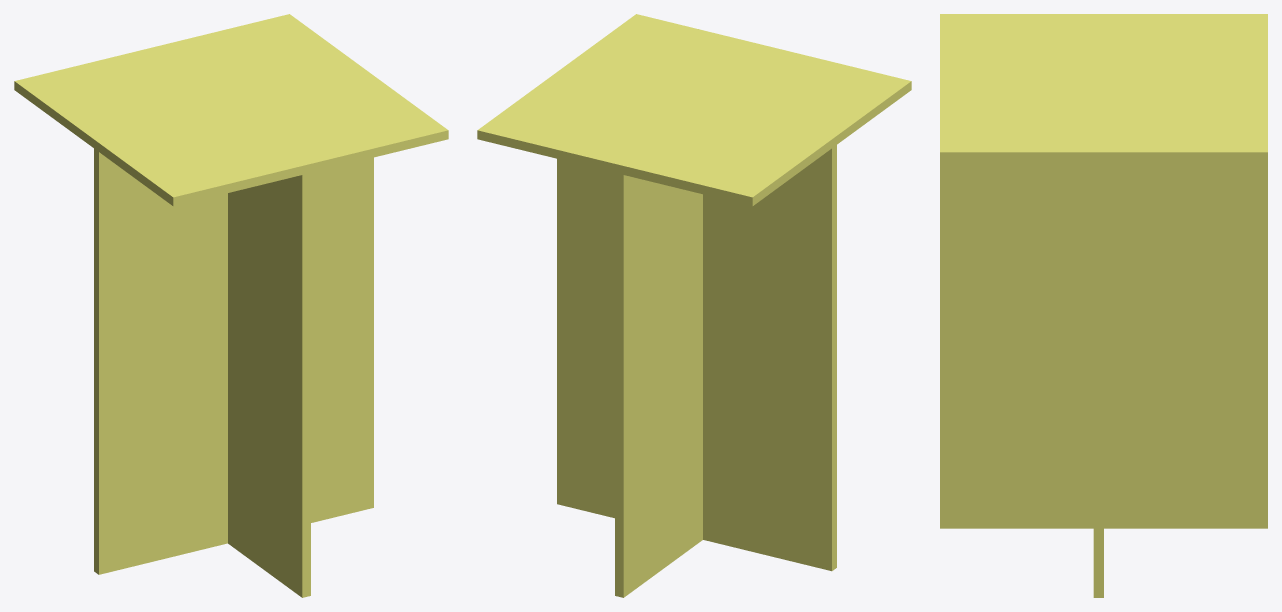
Rendered from 淡黄光.obj.
3 views of the same model, side by side, from view 1: azimuth 30°, elevation 25°; view 2: azimuth 150°, elevation 25°; view 3: azimuth 270°, elevation 25° (orthographic). The views are drawn at different scales.
Visible parts, largest first — view 1: 淡黄光; view 2: 淡黄光; view 3: 淡黄光.
Part boxes in pixels (<box>): 淡黄光: <box>14,14,448,597</box>; 淡黄光: <box>477,14,911,597</box>; 淡黄光: <box>940,14,1267,597</box>.
Bounding box in the file's own units: 32 × 48 × 32.
1 material, 1 textured.
